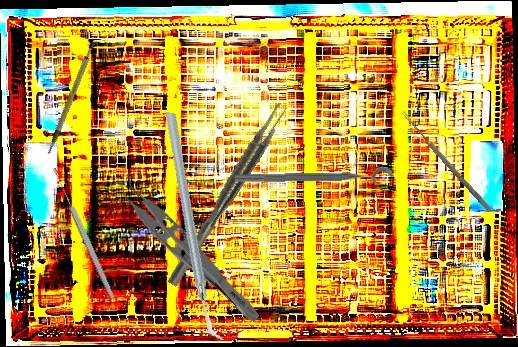Chopper: (116, 111, 274, 341)
Fixation Ring: (234, 166, 393, 196)
Scalpel Handle: (29, 40, 110, 156)
Surgical Spoon: (399, 109, 493, 213), (50, 165, 117, 301)
Tissue Forceps: (108, 170, 273, 327), (161, 100, 292, 288)
